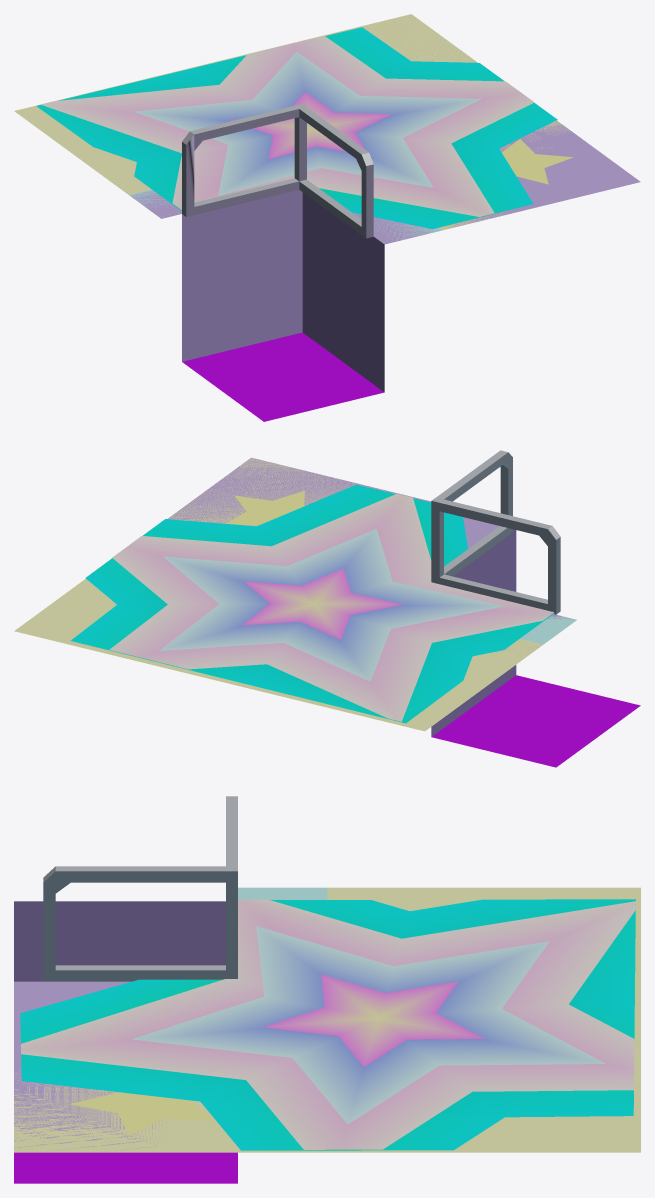
The model's file is floor_b.glb.
3 renders of one model, top to bottom at view 1: azimuth 30°, elevation 25°; view 2: azimuth 150°, elevation 25°; view 3: azimuth 270°, elevation 25°, orthographic. The views are drawn at different scales.
Visible parts, largest first — view 1: floor_b; view 2: floor_b; view 3: floor_b.
Boxes of the visible parts, <box> form: floor_b: <box>14,14,640,421</box>; floor_b: <box>14,450,640,767</box>; floor_b: <box>14,796,640,1183</box>.
Size of the model in its own units: 12.5 by 6.87 by 12.5.
